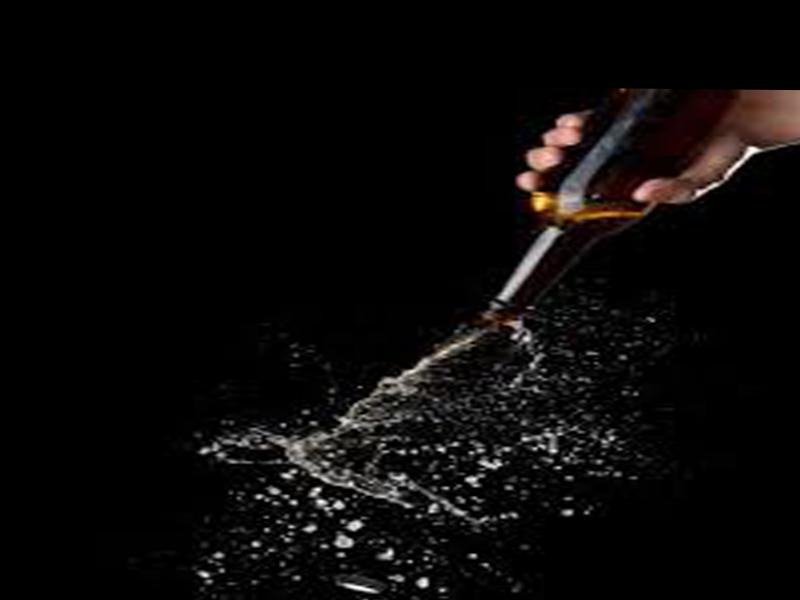Beer: (475, 88, 745, 324)
